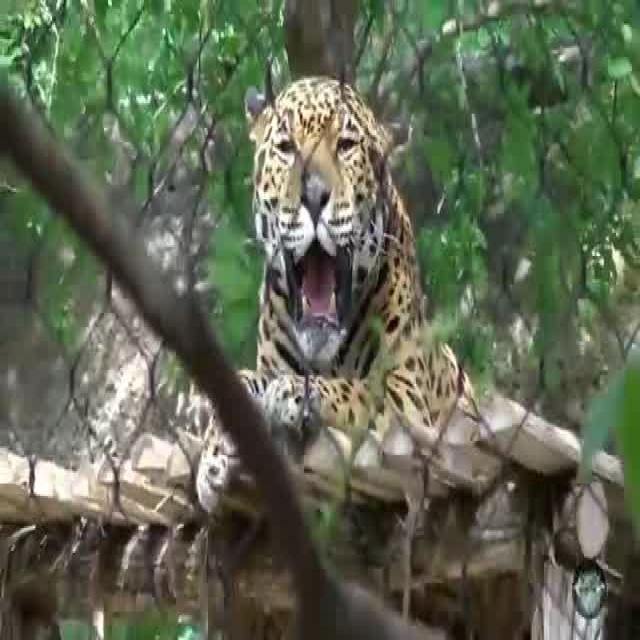Jaguar: (194, 71, 479, 512)
